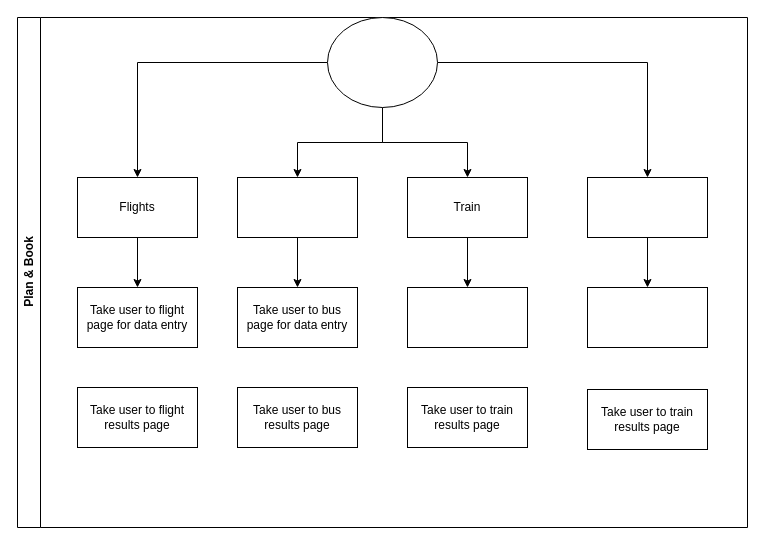
This 765x545 diagram has some shape labels left out. The centre of each missing label's shape, as x and y in pixels:
"Bus" belongs at point (297, 207).
"Rent Car or Boat" belongs at point (647, 207).
"Take user to rental page for data entry" belongs at point (647, 317).
"Take user to train page for data entry" belongs at point (467, 317).
"To Type of service page to book" belongs at point (382, 62).
